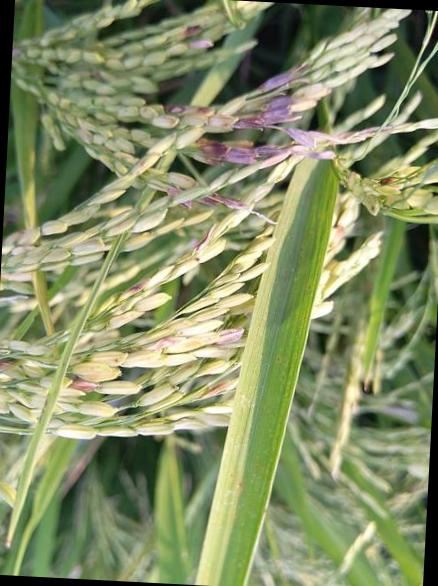Panicle Blight: (253, 90, 291, 123), (116, 278, 156, 302), (196, 137, 228, 166), (197, 382, 237, 400), (223, 146, 258, 165), (167, 170, 198, 190), (214, 325, 243, 346), (150, 335, 187, 351), (329, 223, 346, 256), (264, 72, 293, 91), (194, 226, 214, 252), (300, 147, 336, 161), (253, 145, 289, 159), (232, 115, 266, 129), (221, 197, 253, 211), (66, 379, 96, 393), (0, 358, 23, 375), (136, 155, 155, 175), (187, 38, 215, 51), (194, 193, 220, 207), (184, 25, 202, 39), (165, 104, 189, 114), (165, 185, 185, 197), (193, 106, 214, 116), (12, 46, 26, 61), (381, 175, 393, 187), (181, 201, 194, 211)
